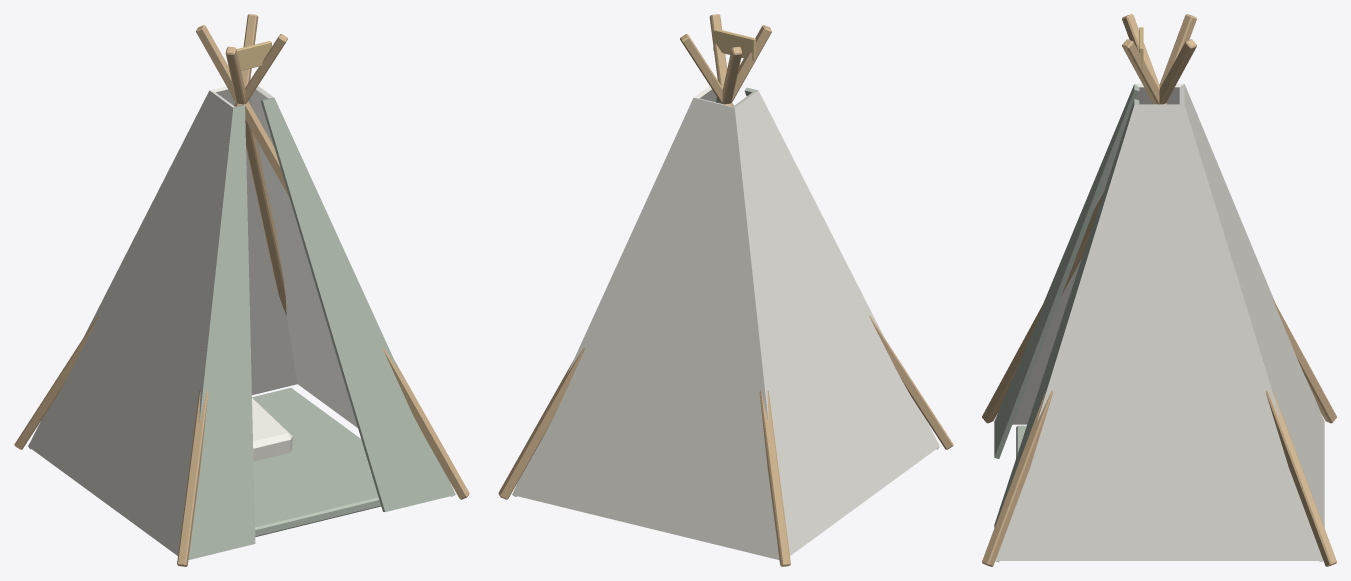
Rendered from play_tent.glb.
3 renders of one model, left to right at view 1: azimuth 30°, elevation 25°; view 2: azimuth 150°, elevation 25°; view 3: azimuth 270°, elevation 25°, orthographic. The views are drawn at different scales.
Visible parts, largest first — view 1: play_tent_ivory, play_tent_sage, play_tent_oak, play_tent_white, play_tent_brass; view 2: play_tent_ivory, play_tent_oak, play_tent_brass; view 3: play_tent_ivory, play_tent_oak, play_tent_sage.
Part boxes in pixels (bbox=[...]): play_tent_ivory: bbox=[28, 86, 455, 560]; play_tent_sage: bbox=[188, 98, 455, 559]; play_tent_oak: bbox=[14, 14, 469, 566]; play_tent_white: bbox=[252, 397, 292, 461]; play_tent_brass: bbox=[229, 41, 271, 71]; play_tent_ivory: bbox=[512, 86, 939, 560]; play_tent_oak: bbox=[498, 14, 953, 566]; play_tent_brass: bbox=[713, 28, 755, 60]; play_tent_ivory: bbox=[995, 83, 1324, 561]; play_tent_oak: bbox=[982, 14, 1336, 566]; play_tent_sage: bbox=[994, 84, 1139, 561].
Bounding box in the file's own units: 0.9893 × 1.44 × 0.9893.
